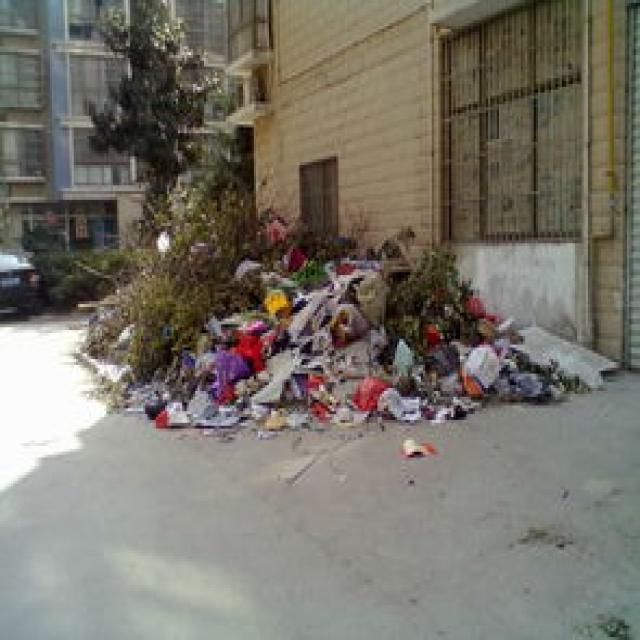garbage: (126, 220, 581, 432)
